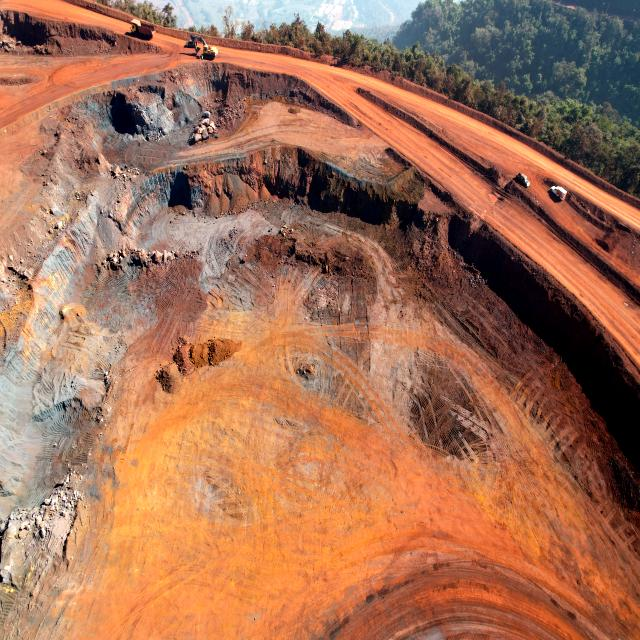Dumper truck: (127, 19, 154, 42), (618, 17, 626, 24)
Excavator: (191, 33, 217, 62)
car: (550, 184, 568, 201), (516, 171, 530, 187)
person: (534, 193, 537, 200), (202, 54, 204, 61), (199, 54, 201, 60)
